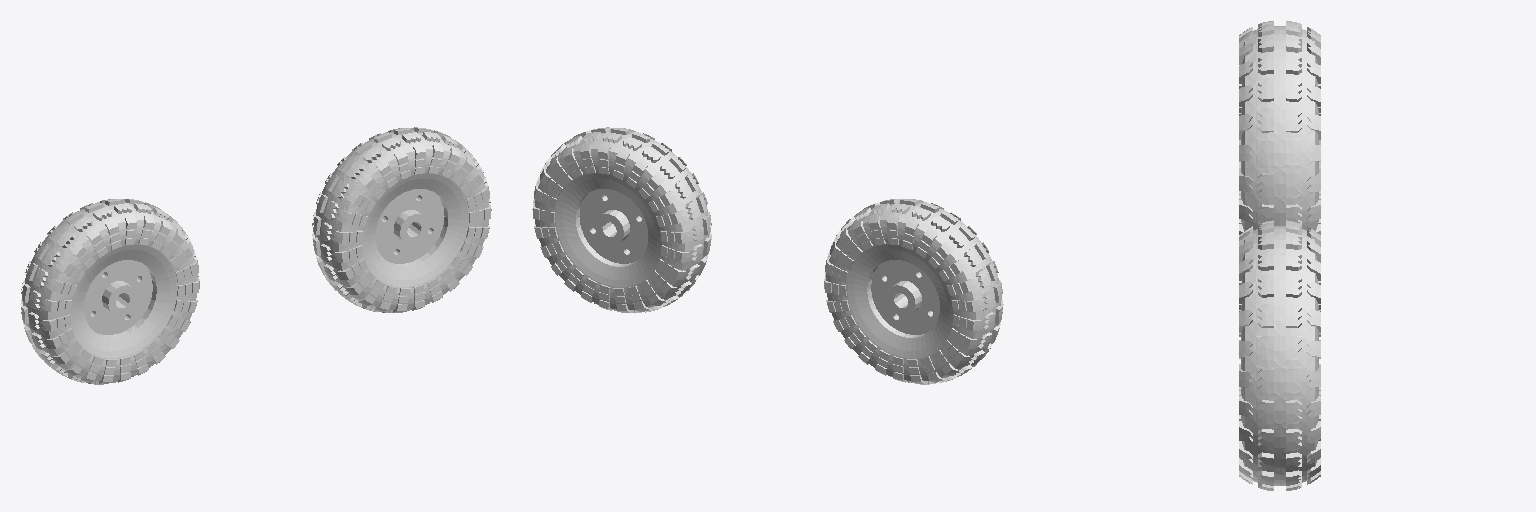
robot.urdf — robot2_revolute:
<?xml version="1.0" encoding="utf-8"?>
<!-- This URDF was automatically created by SolidWorks to URDF Exporter! Originally created by [author] ([email redacted]) 
     Commit Version: 1.6.0-4-g7f85cfe  Build Version: 1.6.7995.38578
     For more information, please see http://wiki.ros.org/sw_urdf_exporter -->
<robot
  name="robot2_revolute">
  <link
    name="base_link">
    <inertial>
      <origin
        xyz="-5.76000119808203E-17 3.20113853670739E-17 0.06"
        rpy="0 0 0" />
      <mass
        value="21.6942477796077" />
      <inertia
        ixx="0.191279933343014"
        ixy="7.43271411215649E-17"
        ixz="-2.98049293693505E-18"
        iyy="0.677694623573289"
        iyz="3.1128339403067E-35"
        izz="0.817129844527322" />
    </inertial>
    <visual>
      <origin
        xyz="0 0 0"
        rpy="0 0 0" />
      <geometry>
        <mesh
          filename="package://robot2_revolute/meshes/base_link.STL" />
      </geometry>
      <material
        name="">
        <color
          rgba="0.792156862745098 0.819607843137255 0.933333333333333 1" />
      </material>
    </visual>
    <collision>
      <origin
        xyz="0 0 0"
        rpy="0 0 0" />
      <geometry>
        <mesh
          filename="package://robot2_revolute/meshes/base_link.STL" />
      </geometry>
    </collision>
  </link>
  <link
    name="front_left_wheel">
    <inertial>
      <origin
        xyz="0.200000000000035 0.194999999998909 0.0600000000000475"
        rpy="0 0 0" />
      <mass
        value="2.11669573162386" />
      <inertia
        ixx="0.00765610745123127"
        ixy="-8.66966066338475E-16"
        ixz="1.20324178202513E-13"
        iyy="0.0140448819805897"
        iyz="-2.71645814017407E-15"
        izz="0.00765610745142051" />
    </inertial>
    <visual>
      <origin
        xyz="0 0 0"
        rpy="0 0 0" />
      <geometry>
        <mesh
          filename="package://robot2_revolute/meshes/front_left_wheel.STL" />
      </geometry>
      <material
        name="">
        <color
          rgba="0.898039215686275 0.898039215686275 0.898039215686275 1" />
      </material>
    </visual>
    <collision>
      <origin
        xyz="0 0 0"
        rpy="0 0 0" />
      <geometry>
        <mesh
          filename="package://robot2_revolute/meshes/front_left_wheel.STL" />
      </geometry>
    </collision>
  </link>
  <joint
    name="front_left_joint"
    type="revolute">
    <origin
      xyz="0 0 0"
      rpy="0 0 0" />
    <parent
      link="base_link" />
    <child
      link="front_left_wheel" />
    <axis
      xyz="0 1 0" />
    <limit
      lower="0"
      upper="0"
      effort="0"
      velocity="0" />
  </joint>
  <link
    name="front_right_wheel">
    <inertial>
      <origin
        xyz="0.200000000000023 -0.194999999998911 0.0599999999999489"
        rpy="0 0 0" />
      <mass
        value="2.11669573162387" />
      <inertia
        ixx="0.00765610745119546"
        ixy="2.49859006571155E-16"
        ixz="-8.0357825824444E-14"
        iyy="0.0140448819805898"
        iyz="-2.46053950760697E-15"
        izz="0.00765610745145606" />
    </inertial>
    <visual>
      <origin
        xyz="0 0 0"
        rpy="0 0 0" />
      <geometry>
        <mesh
          filename="package://robot2_revolute/meshes/front_right_wheel.STL" />
      </geometry>
      <material
        name="">
        <color
          rgba="0.898039215686275 0.898039215686275 0.898039215686275 1" />
      </material>
    </visual>
    <collision>
      <origin
        xyz="0 0 0"
        rpy="0 0 0" />
      <geometry>
        <mesh
          filename="package://robot2_revolute/meshes/front_right_wheel.STL" />
      </geometry>
    </collision>
  </link>
  <joint
    name="front_right_joint"
    type="revolute">
    <origin
      xyz="0 0 0"
      rpy="0 0 0" />
    <parent
      link="base_link" />
    <child
      link="front_right_wheel" />
    <axis
      xyz="0 -1 0" />
    <limit
      lower="0"
      upper="0"
      effort="0"
      velocity="0" />
  </joint>
  <link
    name="rear_left_wheel">
    <inertial>
      <origin
        xyz="-0.200000000000055 0.194999999998913 0.0599999999999808"
        rpy="0 0 0" />
      <mass
        value="2.11669573162387" />
      <inertia
        ixx="0.00765610745141972"
        ixy="1.73539570531935E-15"
        ixz="1.20717954225204E-13"
        iyy="0.0140448819805897"
        iyz="1.22107905868772E-15"
        izz="0.0076561074512315" />
    </inertial>
    <visual>
      <origin
        xyz="0 0 0"
        rpy="0 0 0" />
      <geometry>
        <mesh
          filename="package://robot2_revolute/meshes/rear_left_wheel.STL" />
      </geometry>
      <material
        name="">
        <color
          rgba="0.898039215686275 0.898039215686275 0.898039215686275 1" />
      </material>
    </visual>
    <collision>
      <origin
        xyz="0 0 0"
        rpy="0 0 0" />
      <geometry>
        <mesh
          filename="package://robot2_revolute/meshes/rear_left_wheel.STL" />
      </geometry>
    </collision>
  </link>
  <joint
    name="rear_left_joint"
    type="revolute">
    <origin
      xyz="0 0 0"
      rpy="0 0 0" />
    <parent
      link="base_link" />
    <child
      link="rear_left_wheel" />
    <axis
      xyz="0 1 0" />
    <limit
      lower="0"
      upper="0"
      effort="0"
      velocity="0" />
  </joint>
  <link
    name="rear_right_wheel">
    <inertial>
      <origin
        xyz="-0.200000000000007 -0.194999999998909 0.0600000000000545"
        rpy="0 0 0" />
      <mass
        value="2.11669573162388" />
      <inertia
        ixx="0.0076561074511742"
        ixy="7.12117761998113E-16"
        ixz="1.99972214730936E-14"
        iyy="0.0140448819805899"
        iyz="2.84764578974053E-15"
        izz="0.00765610745147777" />
    </inertial>
    <visual>
      <origin
        xyz="0 0 0"
        rpy="0 0 0" />
      <geometry>
        <mesh
          filename="package://robot2_revolute/meshes/rear_right_wheel.STL" />
      </geometry>
      <material
        name="">
        <color
          rgba="0.898039215686275 0.898039215686275 0.898039215686275 1" />
      </material>
    </visual>
    <collision>
      <origin
        xyz="0 0 0"
        rpy="0 0 0" />
      <geometry>
        <mesh
          filename="package://robot2_revolute/meshes/rear_right_wheel.STL" />
      </geometry>
    </collision>
  </link>
  <joint
    name="rear_right_joint"
    type="revolute">
    <origin
      xyz="0 0 0"
      rpy="0 0 0" />
    <parent
      link="base_link" />
    <child
      link="rear_right_wheel" />
    <axis
      xyz="0 -1 0" />
    <limit
      lower="0"
      upper="0"
      effort="30"
      velocity="30" />
  </joint>
</robot>

--- What the picture shows (computed from the rendered views, not written in the file) ---
Views: 3 orthographic renders of the robot side by side, from view 1: azimuth 30°, elevation 25°; view 2: azimuth 150°, elevation 25°; view 3: azimuth 270°, elevation 25°.
Model robot2_revolute with 5 links and 4 joints (4 revolute), rooted at base_link, posed every joint at zero.
Links seen in each view (by area): view 1: rear_left_wheel, front_left_wheel; view 2: rear_left_wheel, front_left_wheel; view 3: front_left_wheel, rear_left_wheel.
Boxes of the visible links, bbox=[...] form: rear_left_wheel: bbox=[20, 199, 199, 384]; front_left_wheel: bbox=[312, 127, 491, 312]; rear_left_wheel: bbox=[824, 199, 1003, 384]; front_left_wheel: bbox=[532, 127, 711, 312]; front_left_wheel: bbox=[1239, 220, 1320, 490]; rear_left_wheel: bbox=[1239, 21, 1320, 234].
Size in the robot's own frame: 0.6295 by 0.069 by 0.2295 metres.
2 mesh visuals loaded from 5 distinct referenced files (2 binary STL); not drawn: 3 (reference not matched to a file when rendering).